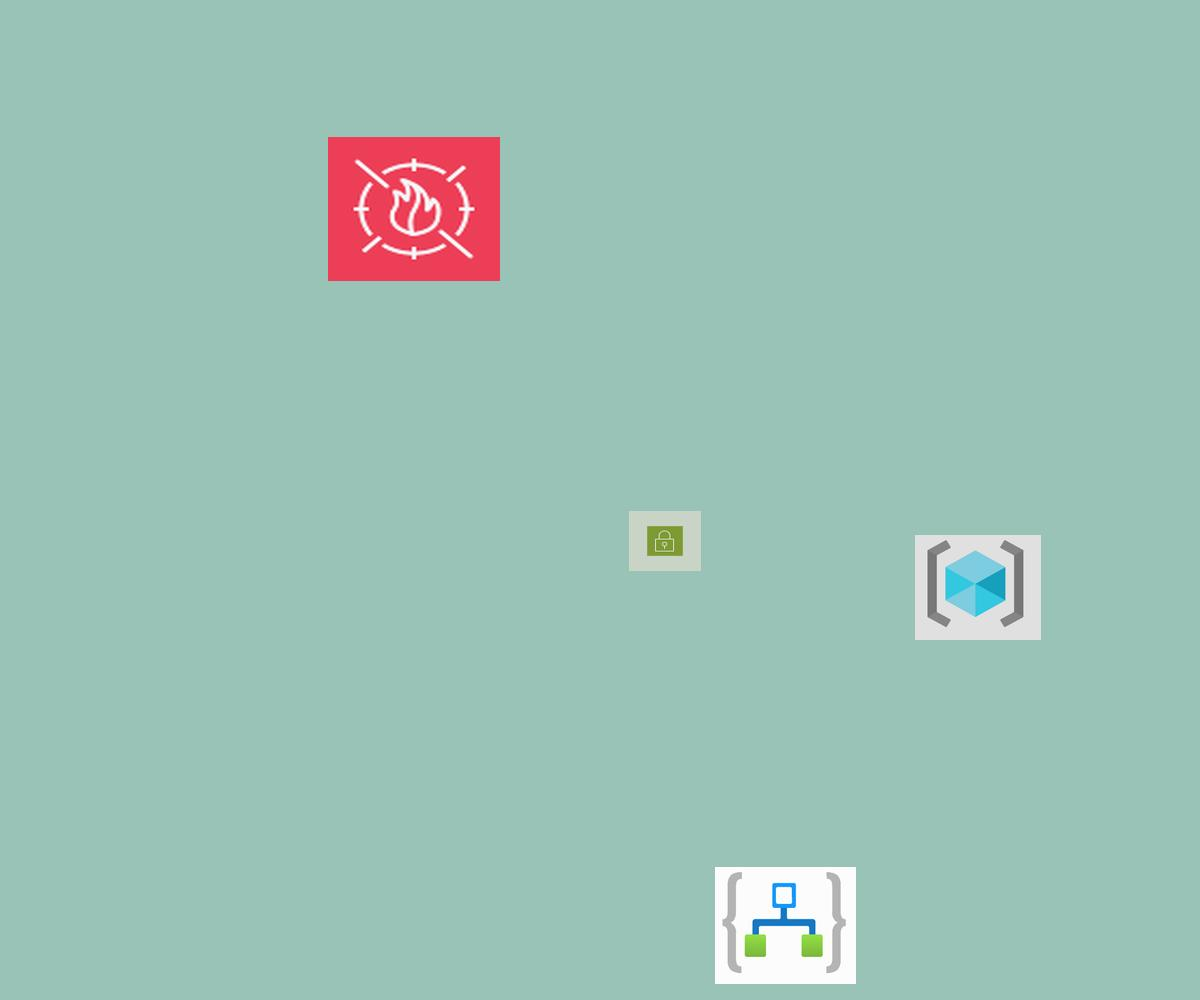AWS-Public-subnet: (629, 511, 701, 571)
AWS-WAF: (328, 137, 500, 281)
Azure_integration-204-Logic-Apps: (715, 867, 856, 984)
Azure_resource_group: (915, 535, 1041, 640)
